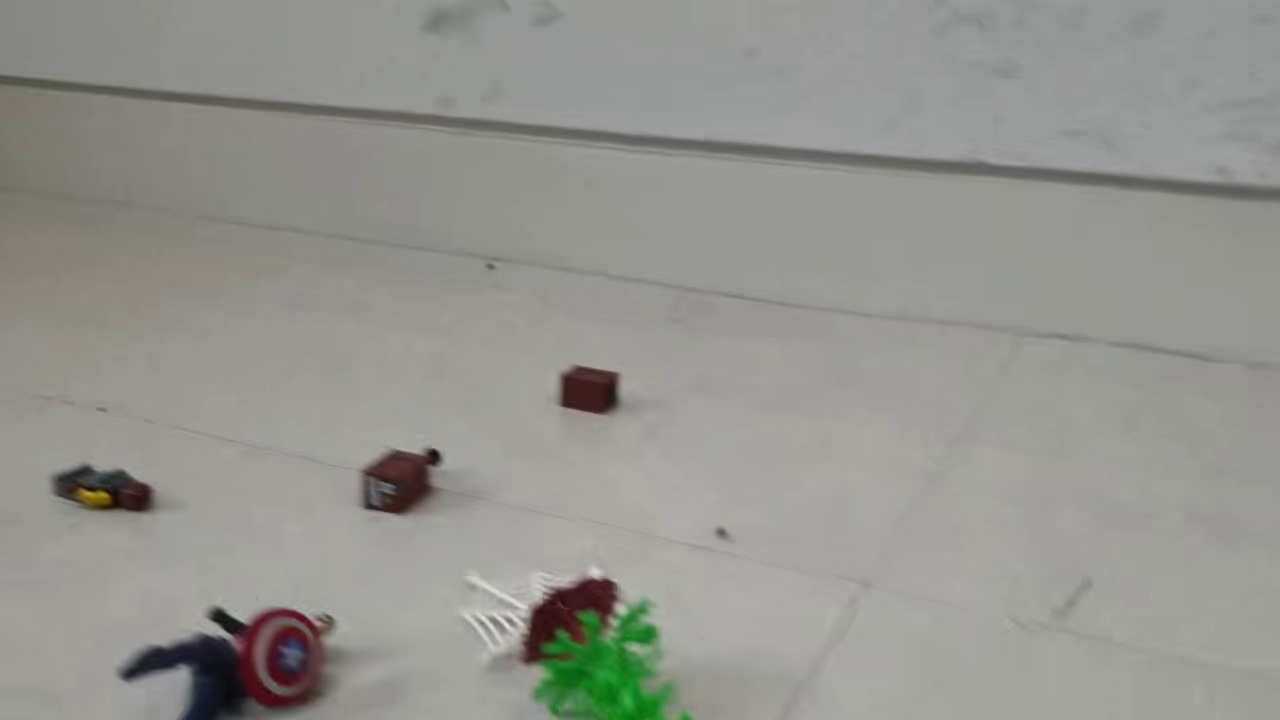box: (351, 440, 450, 517), (551, 363, 622, 415)
people: (115, 596, 339, 720), (39, 461, 154, 519)
tree: (521, 574, 687, 720)
web: (461, 559, 647, 664)
